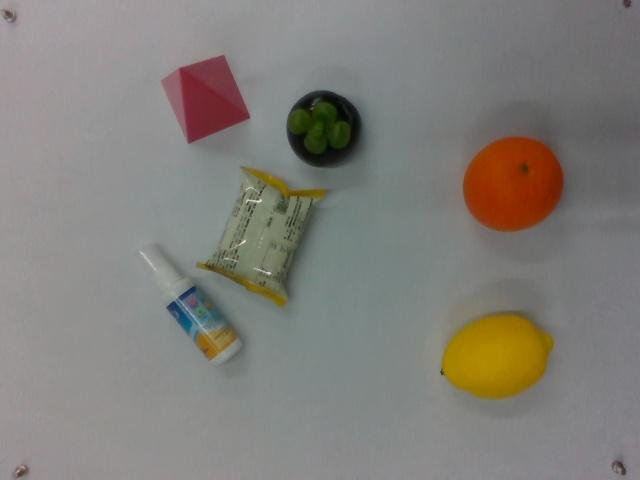dessert: (205, 163, 328, 309)
detergent: (138, 241, 248, 368)
lemon: (438, 309, 555, 403)
mangosteen: (282, 86, 367, 169)
orange: (462, 137, 566, 235)
pyramid: (158, 51, 248, 147)
